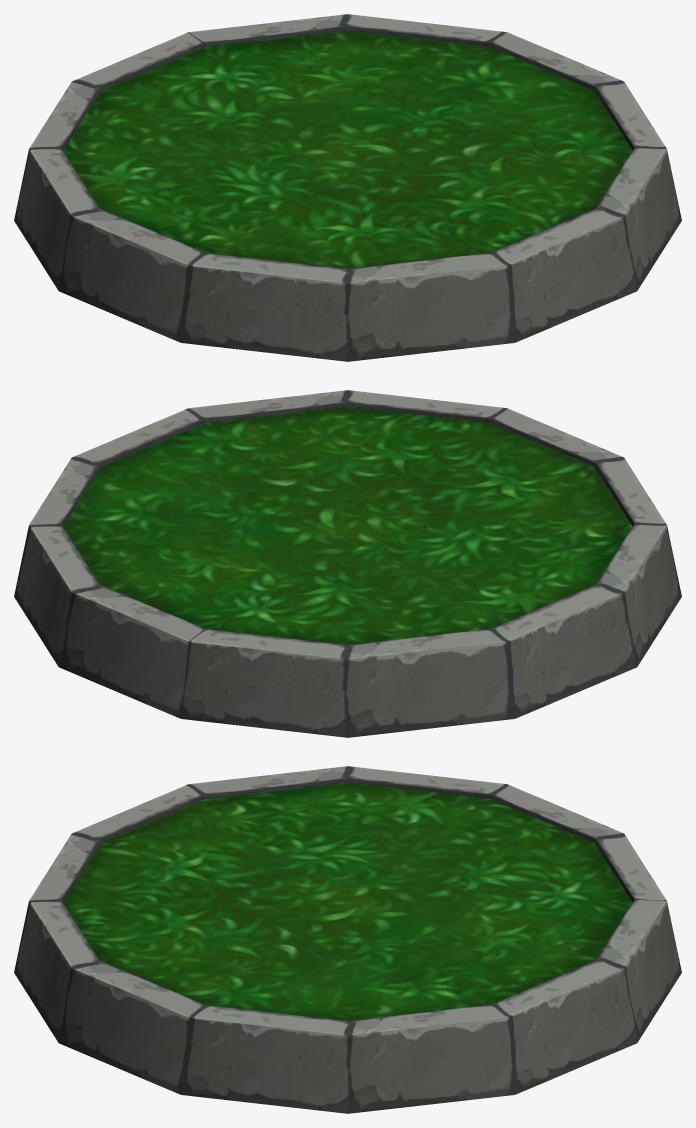
Rendered from table.FBX.
3 renders of one model, top to bottom at view 1: azimuth 30°, elevation 25°; view 2: azimuth 150°, elevation 25°; view 3: azimuth 270°, elevation 25°, orthographic.
Visible parts, largest first — view 1: table; view 2: table; view 3: table.
Part boxes in pixels (<box>): table: <box>14,14,681,361</box>; table: <box>14,390,681,737</box>; table: <box>14,766,681,1113</box>.
Bounding box in the file's own units: 169 × 20.32 × 169.
